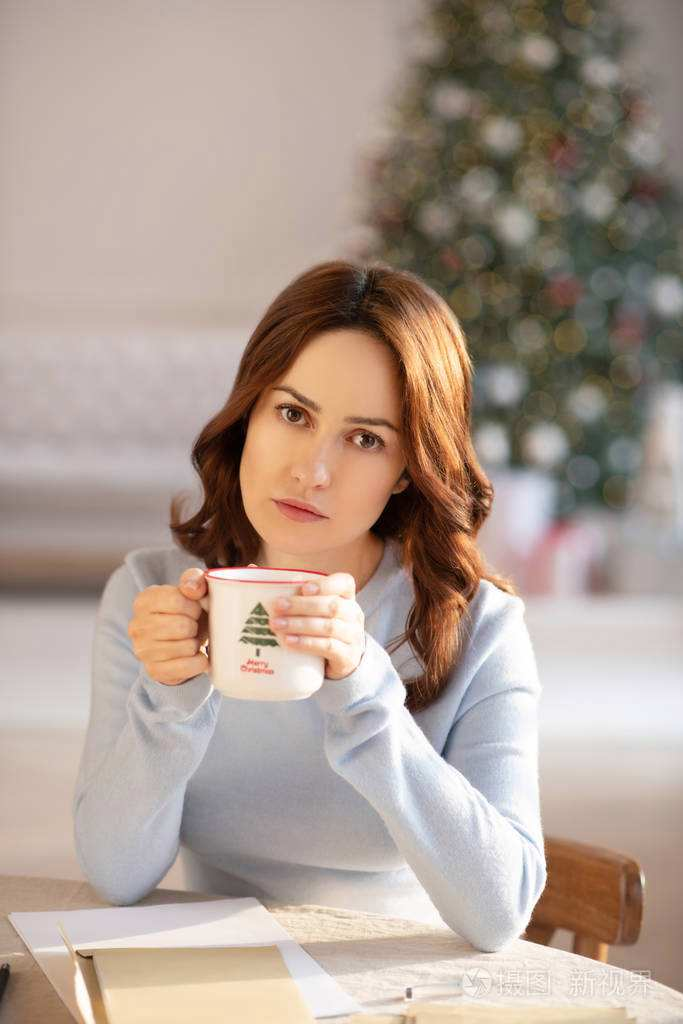no-phone: (123, 554, 374, 700)
